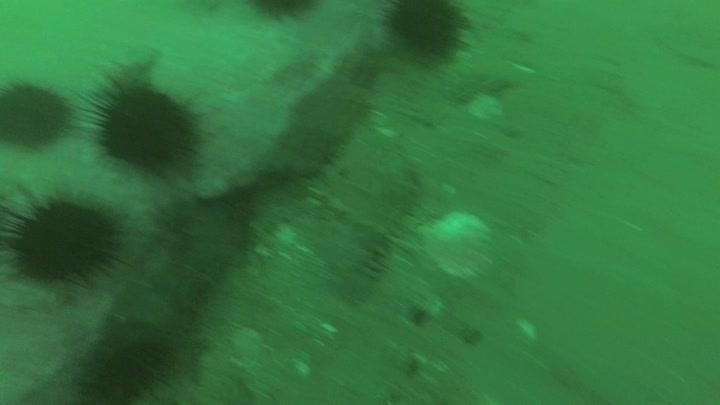echinus: (85, 71, 203, 176), (3, 188, 124, 288), (76, 323, 178, 403), (381, 1, 471, 63), (0, 76, 74, 151)
holothurian: (326, 168, 421, 303)
scallop: (418, 208, 496, 283), (465, 91, 506, 124)
